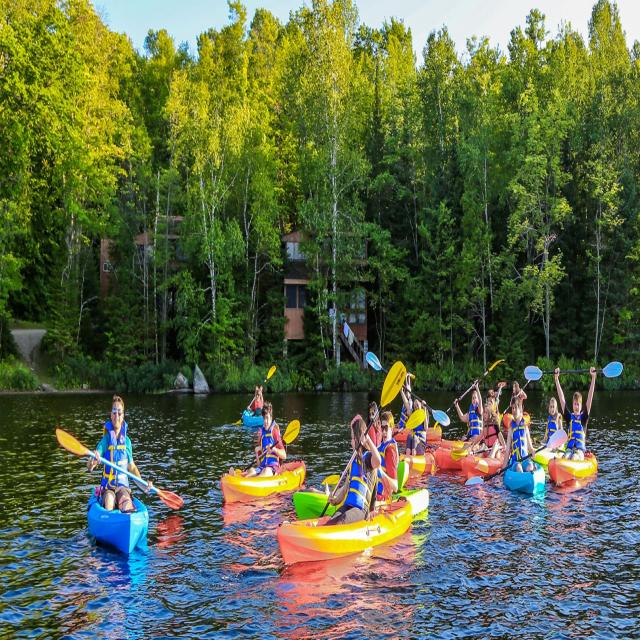body: (305, 415, 382, 528), (86, 393, 154, 515), (308, 410, 399, 501), (228, 400, 288, 479), (554, 365, 596, 461), (495, 395, 538, 474), (400, 382, 430, 457), (470, 400, 506, 460), (453, 378, 484, 442), (454, 386, 484, 443), (533, 397, 563, 448), (394, 370, 414, 430), (366, 401, 383, 447), (510, 380, 528, 413), (253, 384, 264, 417)
